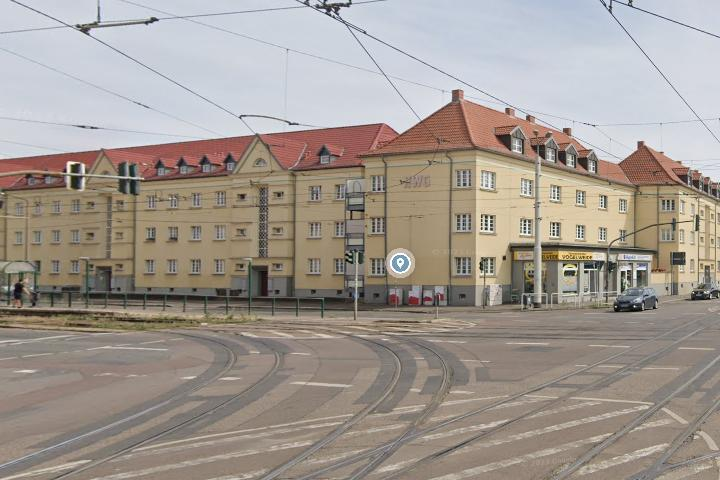google_maps: (389, 252, 413, 275)
vehicle: (611, 286, 660, 314), (689, 282, 720, 302)
